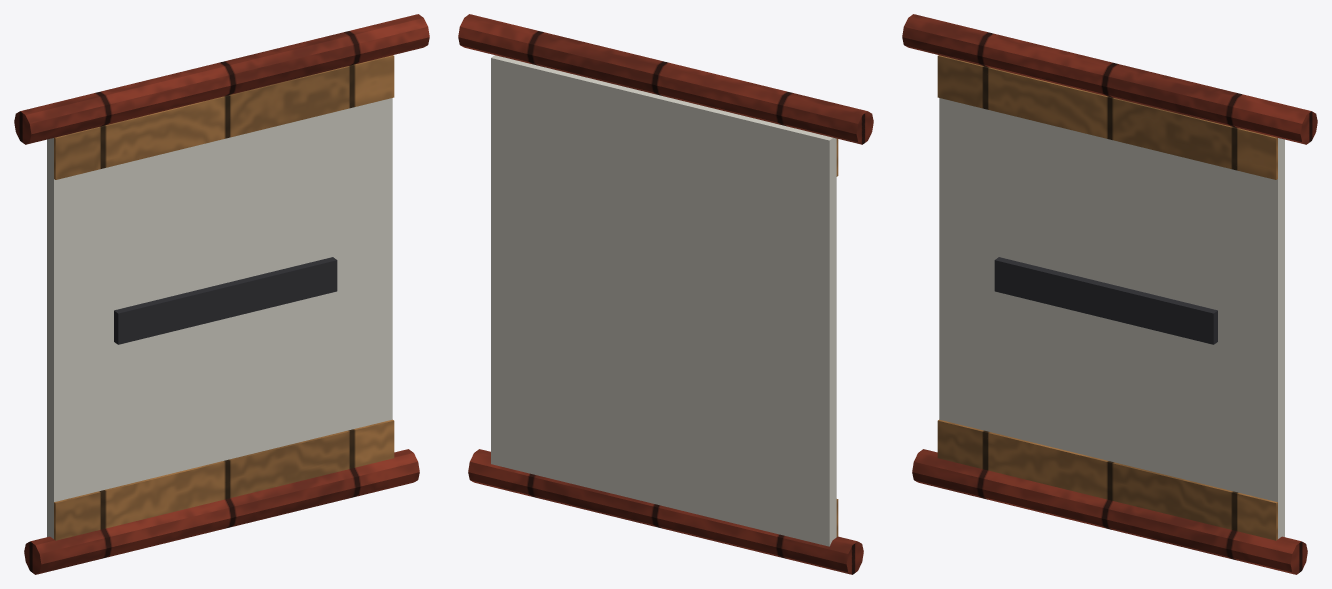
File: Sign_Japanese_1.fbx
3 renders of one model, left to right at view 1: azimuth 30°, elevation 25°; view 2: azimuth 150°, elevation 25°; view 3: azimuth 330°, elevation 25°, orthographic.
Parts seen in each view (by area): view 1: Sign_Japanese_1; view 2: Sign_Japanese_1; view 3: Sign_Japanese_1.
Part boxes in pixels (bbox=[...]): Sign_Japanese_1: bbox=[14, 14, 429, 574]; Sign_Japanese_1: bbox=[458, 14, 873, 574]; Sign_Japanese_1: bbox=[902, 14, 1317, 574].
Size of the model in its own units: 0.8 by 0.8871 by 0.06.
4 materials, 2 textured.
